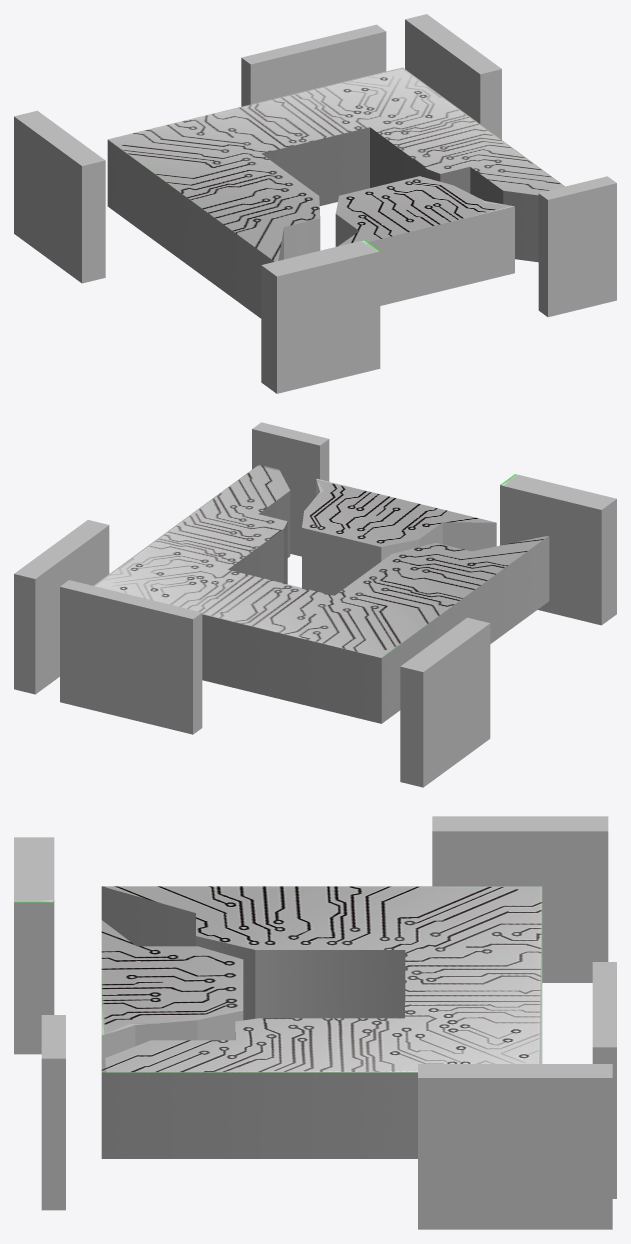
The model's file is qinggan.FBX.
3 renders of one model, top to bottom at view 1: azimuth 30°, elevation 25°; view 2: azimuth 150°, elevation 25°; view 3: azimuth 270°, elevation 25°, orthographic. The views are drawn at different scales.
Parts seen in each view (by area): view 1: Box001, Box004; view 2: Box001, Box004; view 3: Box001, Box004.
Boxes of the visible parts, x1,y1,x2,y2 form: Box001: (107,67,564,318); Box004: (14,14,616,393); Box001: (93,464,549,723); Box004: (14,422,616,787); Box001: (101,886,542,1158); Box004: (14,816,616,1229).
Size of the model in its own units: 14.05 by 3.8 by 13.69.
